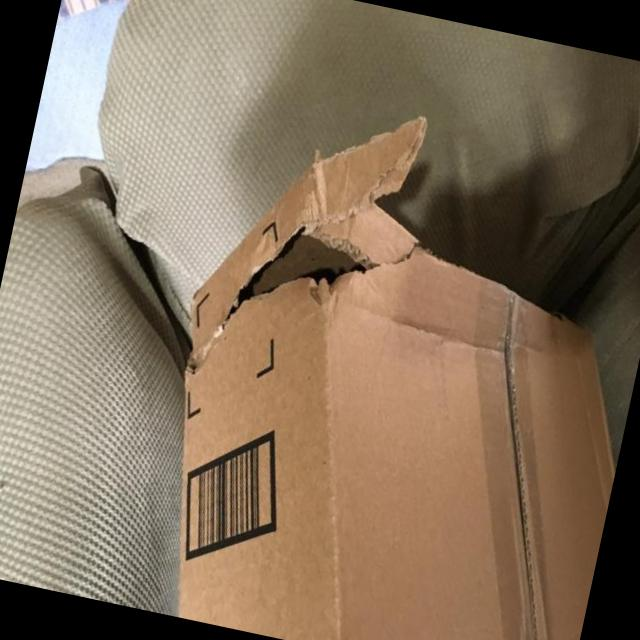box: (253, 300, 571, 535), (59, 205, 323, 469), (318, 144, 566, 361)
